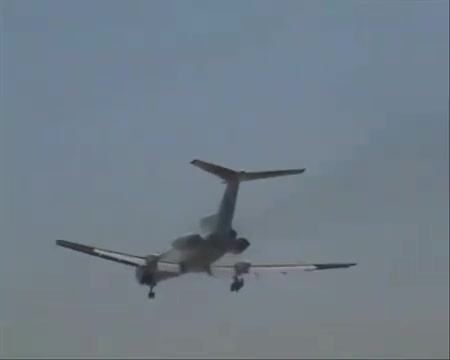aeroplane: (55, 157, 362, 301)
